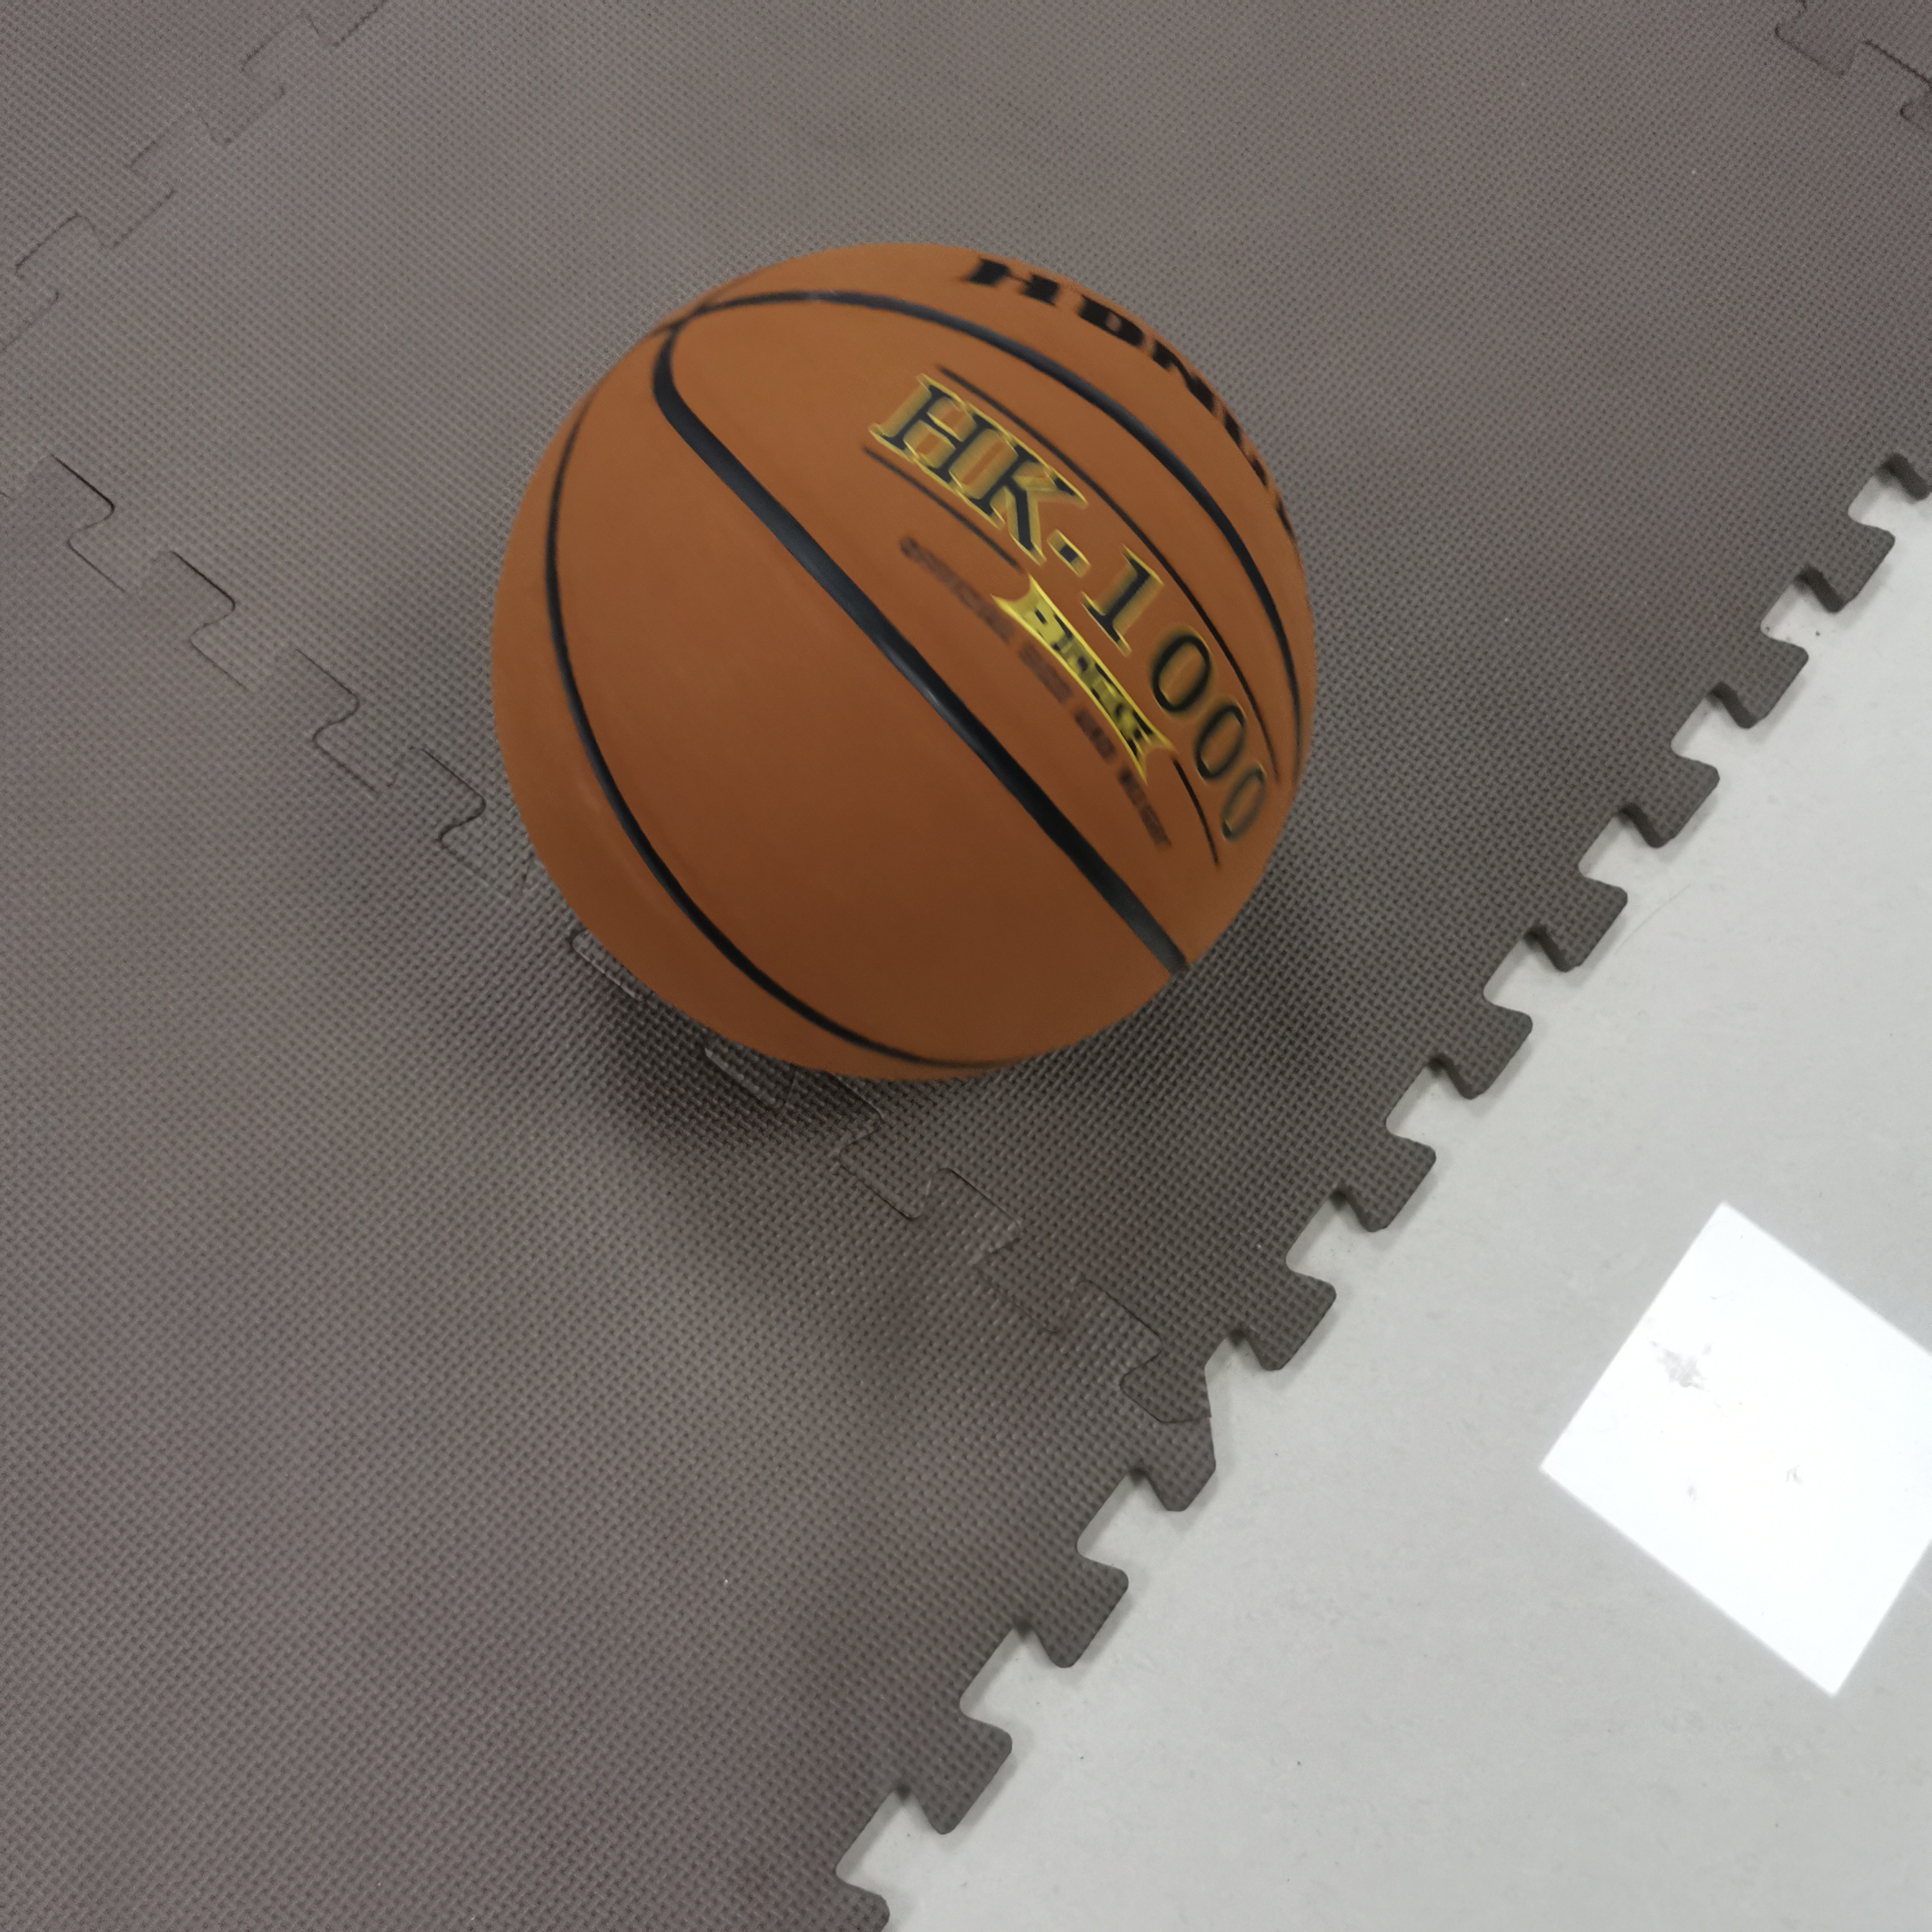basketball: (488, 244, 1315, 1076)
